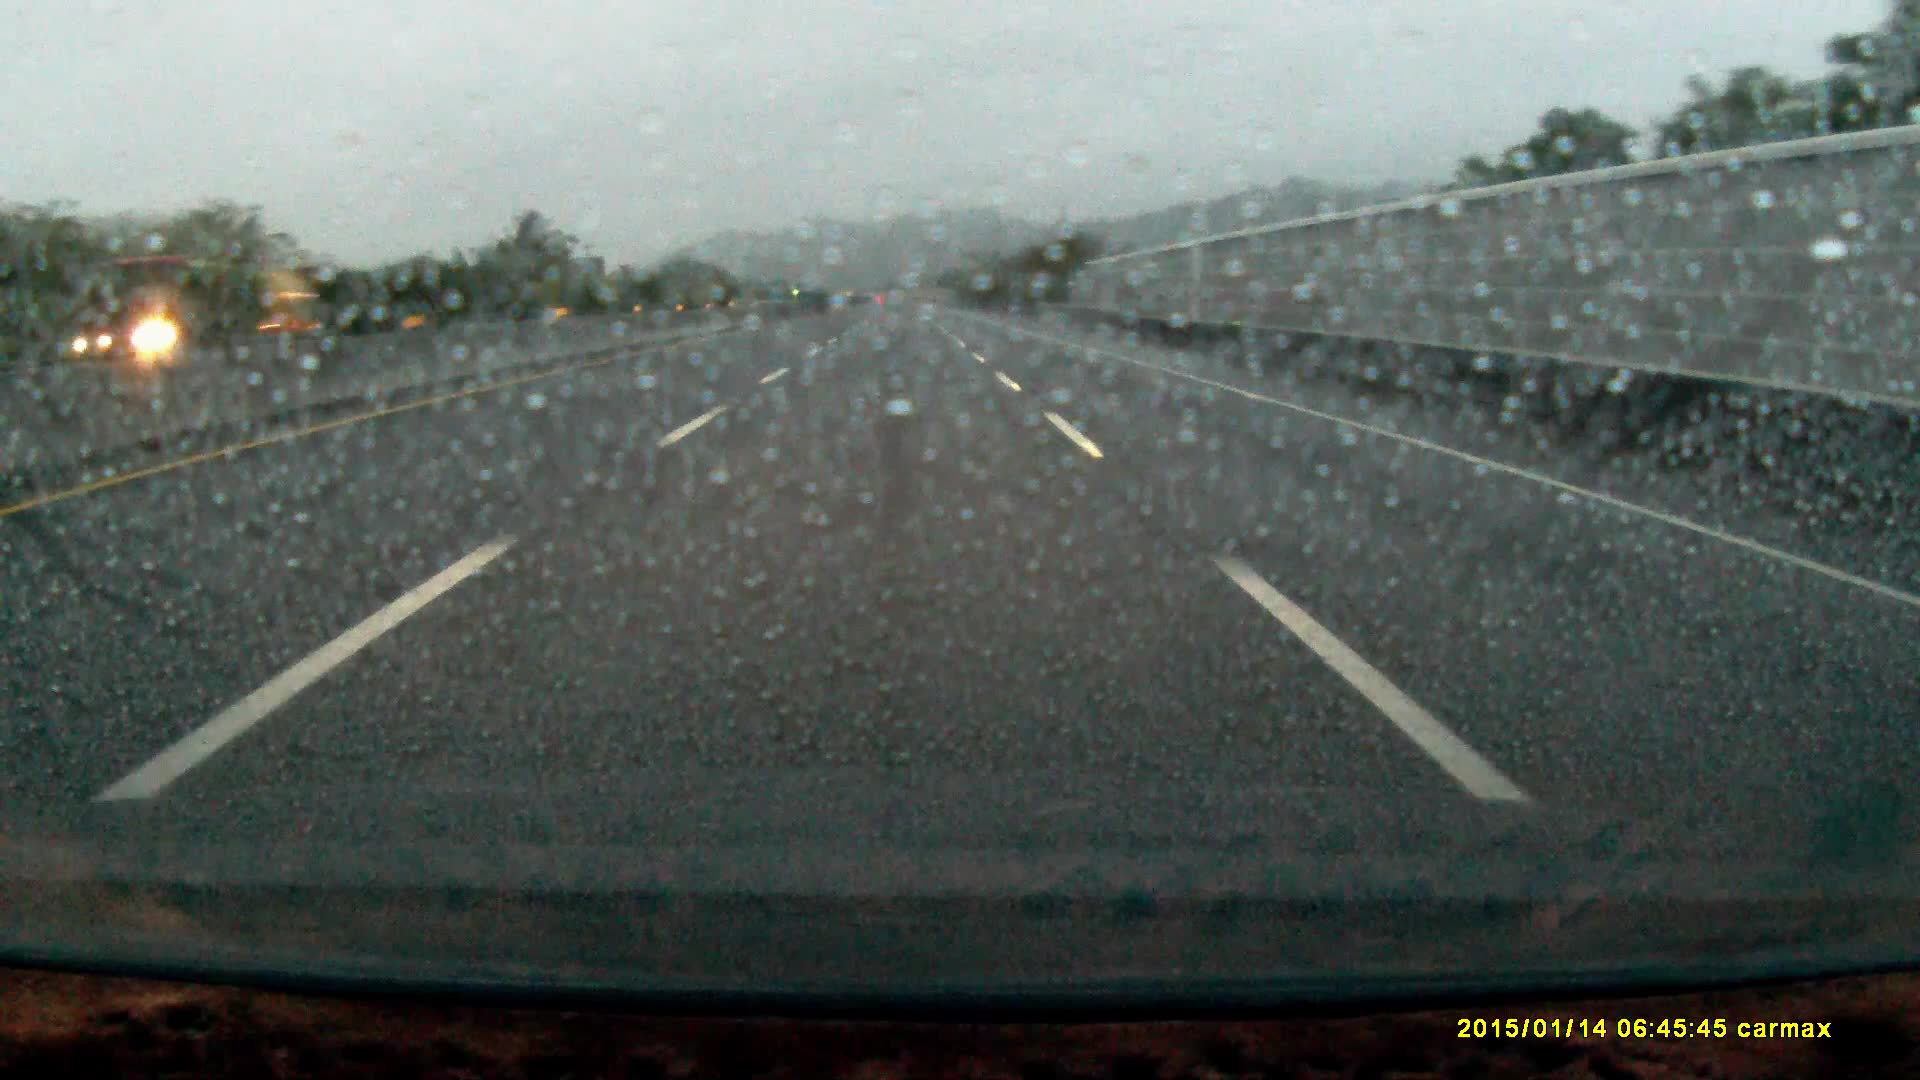vehicle: (61, 252, 332, 378)
